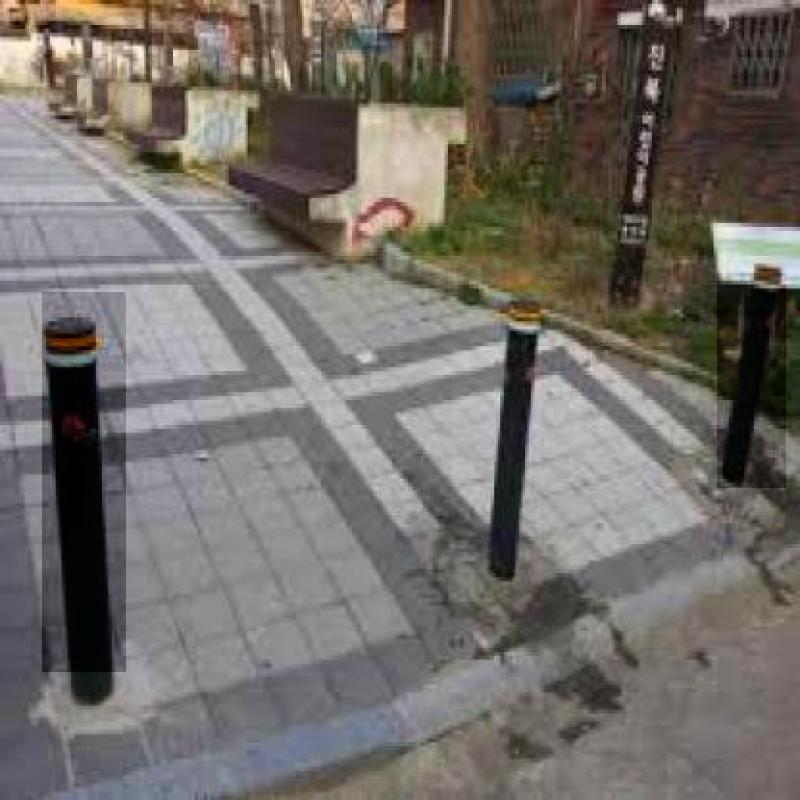bolard: (42, 292, 126, 672), (452, 292, 541, 573), (717, 273, 786, 488)
